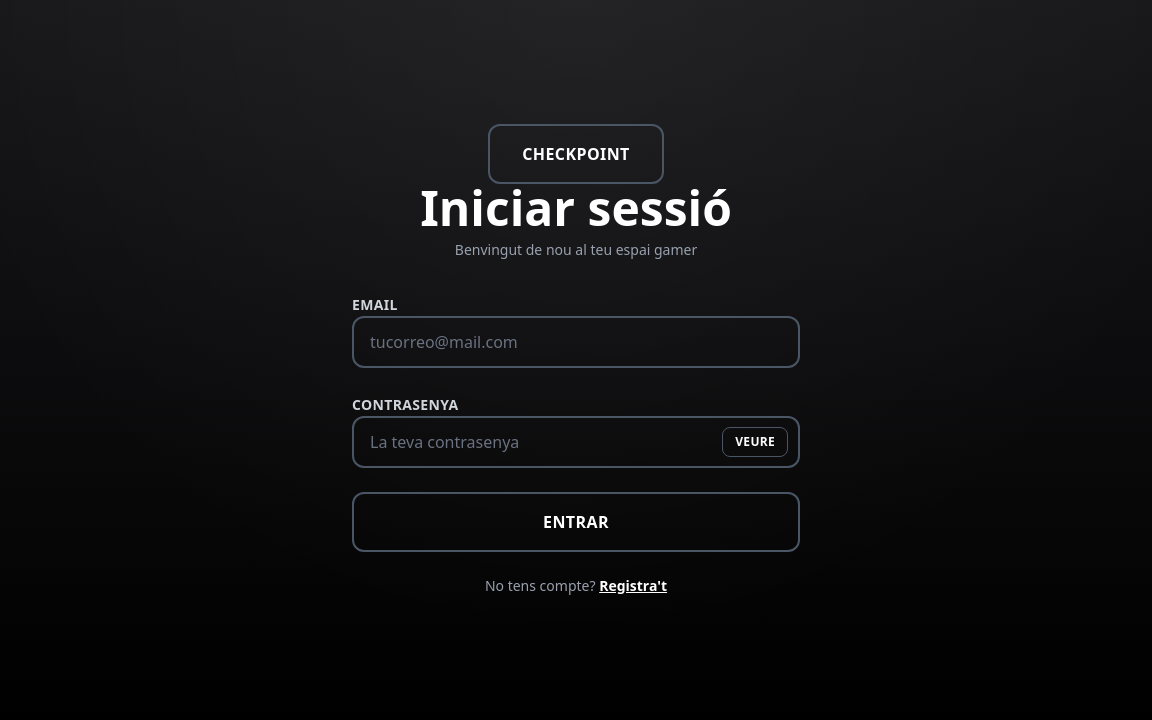
Login.vue › should display an error message on failed login
In the field labelled "Email": (576, 342) top-left (352, 316), bottom-right (800, 368), type "wrong@test.com"
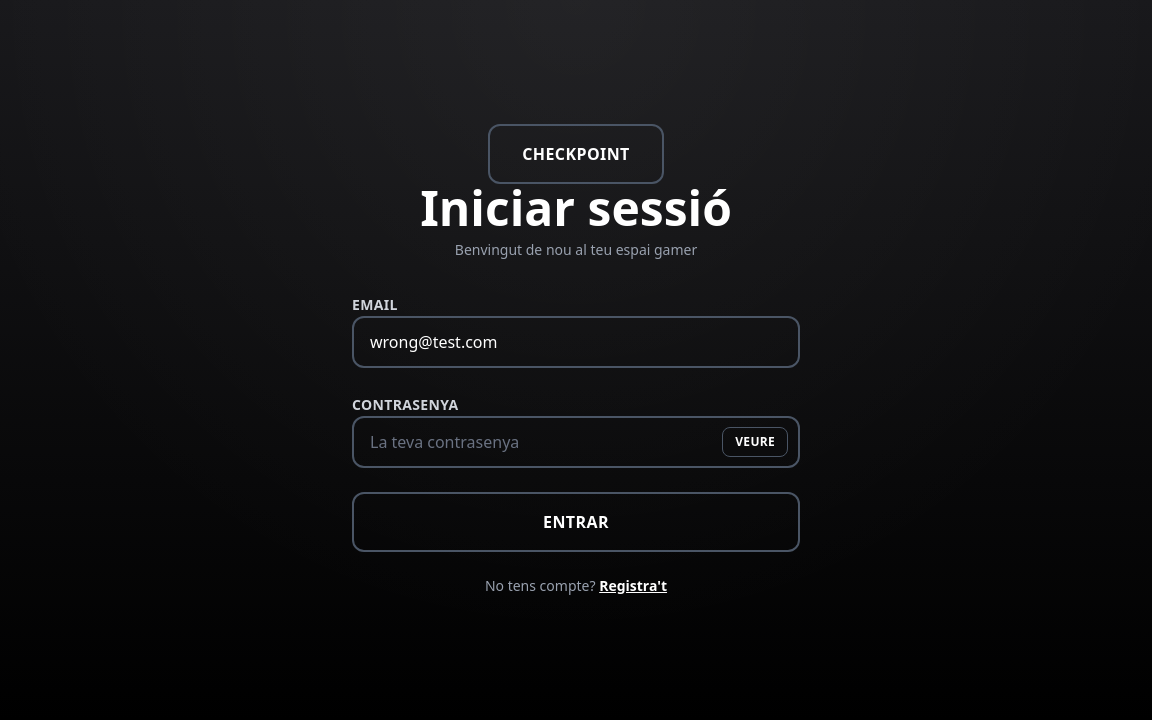
In the password field labelled "Contrasenya Veure": (576, 442) top-left (352, 416), bottom-right (800, 468), type "wrongpassword"
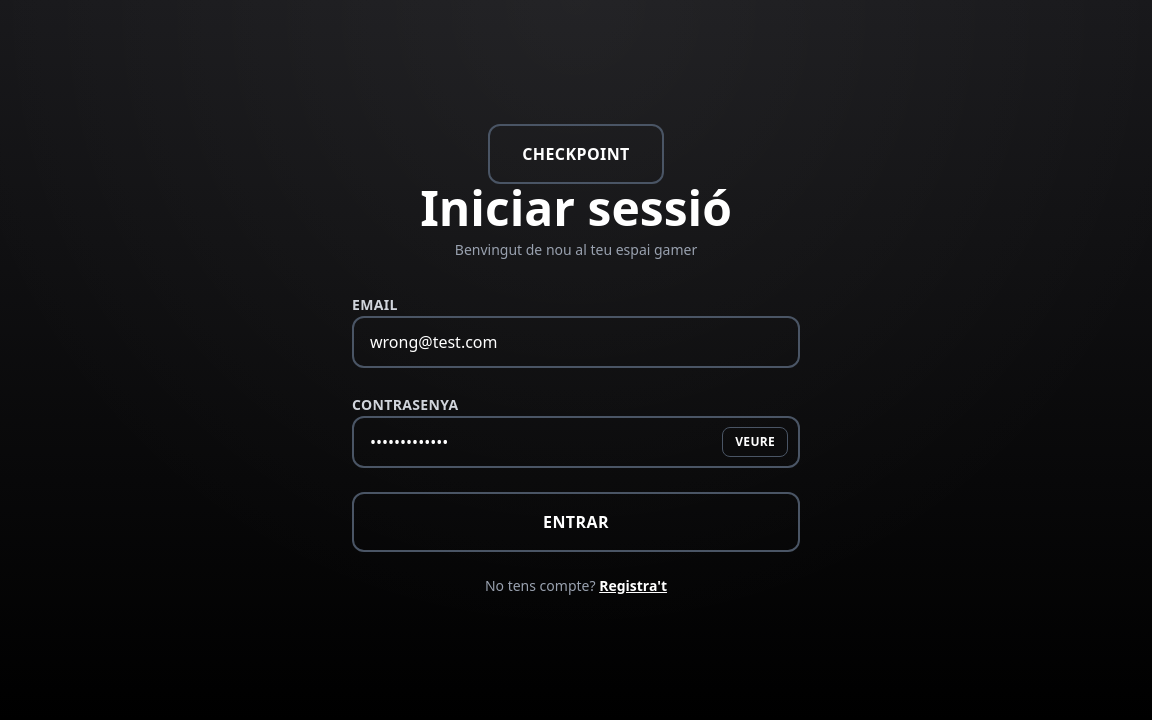
Submit the form, box top-left (352, 292), bottom-right (800, 596)
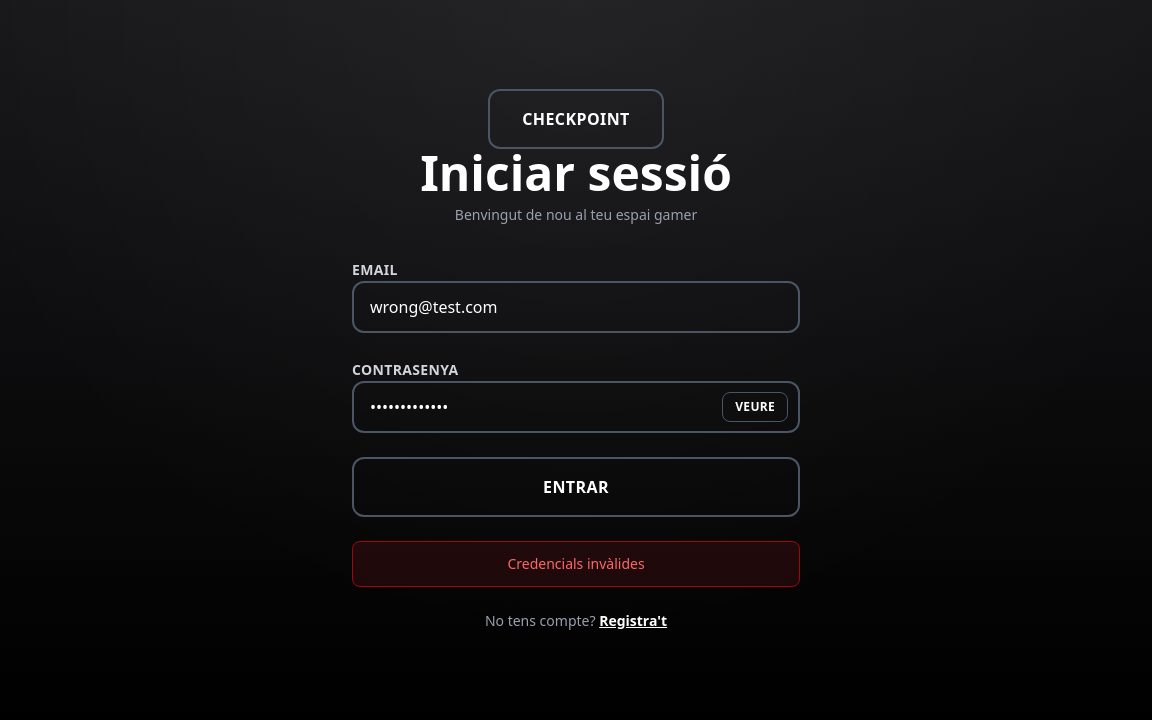
Expected: the button "Entrar" is shown, top-left (352, 457), bottom-right (800, 517)
Now the text "Credencials invàlides" is shown, box top-left (352, 541), bottom-right (800, 587)
